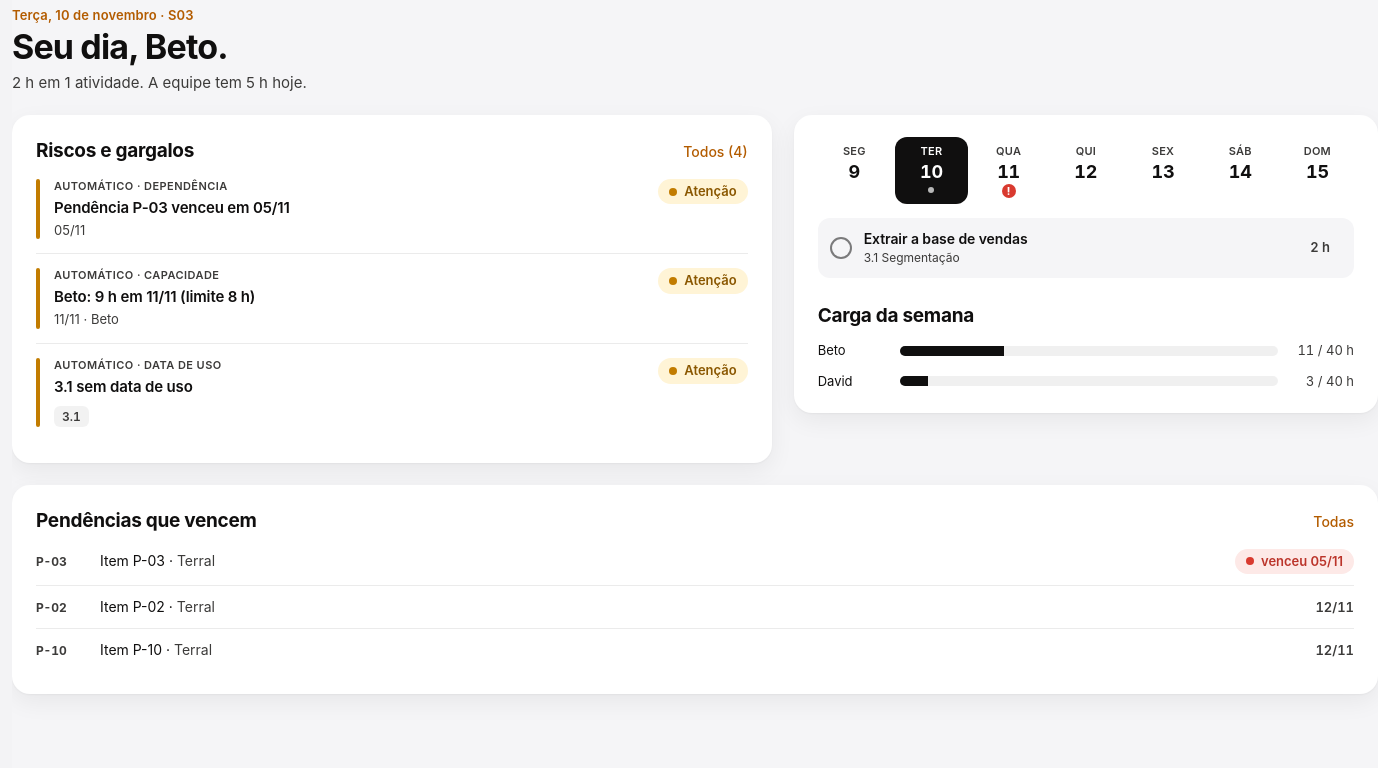
Hoje › week strip: a red dot on the day over capacity; tapping a day selects it
expect the text "!" is shown: met, box [1002, 184, 1016, 198]
expect the text "acima do limite de" is not shown: met
Click the button with aria-label "11/11" at (1009,171), box [972, 137, 1045, 204]
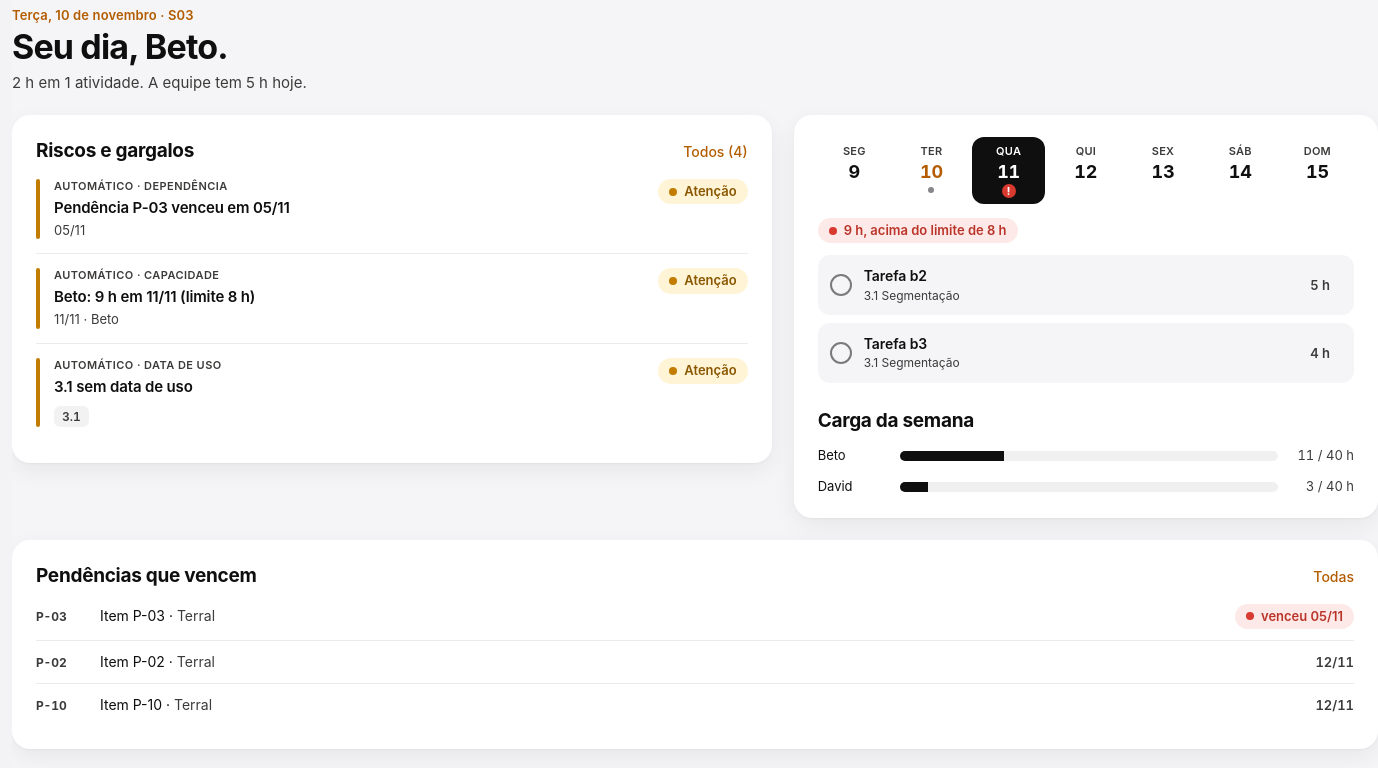
expect the checkbox named "Tarefa b2" is shown: met, box [830, 274, 852, 296]
expect the text "9 h, acima do limite de 8 h" is shown: met, box [818, 218, 1018, 243]
